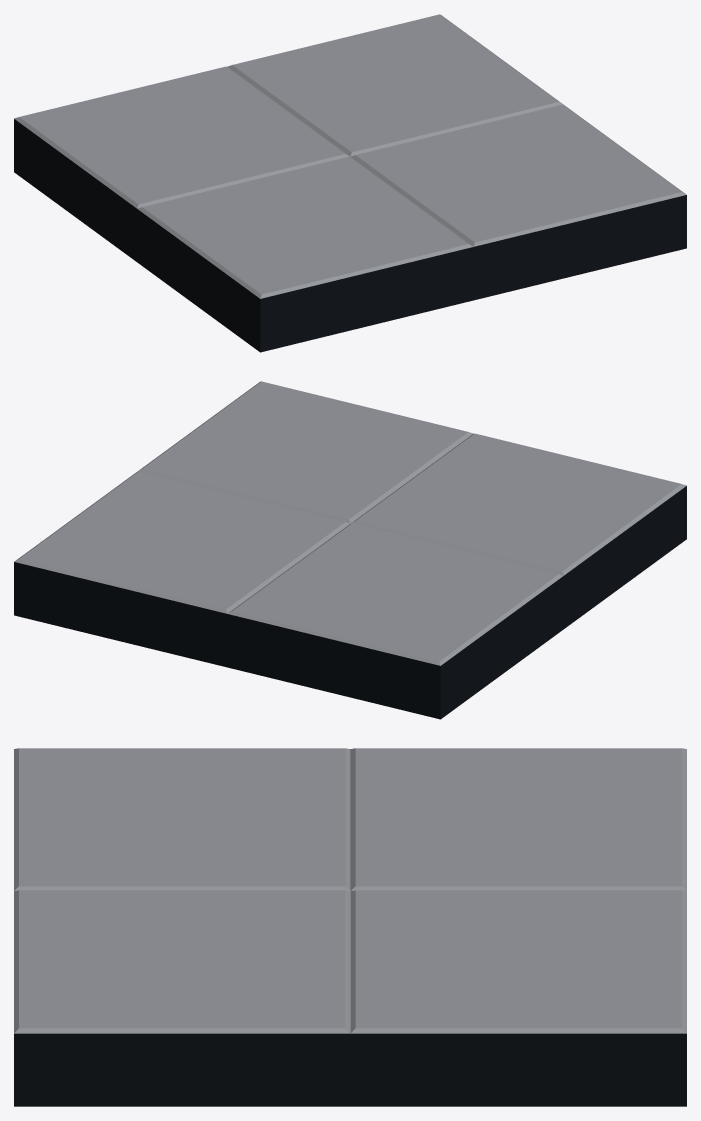
File: sm_Floor_A_01.fbx
3 renders of one model, top to bottom at view 1: azimuth 30°, elevation 25°; view 2: azimuth 150°, elevation 25°; view 3: azimuth 270°, elevation 25°, orthographic. The views are drawn at different scales.
Visible parts, largest first — view 1: Floor_A_01; view 2: Floor_A_01; view 3: Floor_A_01.
Boxes of the visible parts, x1,y1,x2,y2 form: Floor_A_01: [14, 14, 686, 352]; Floor_A_01: [14, 381, 686, 719]; Floor_A_01: [14, 748, 686, 1106].
Bounding box in the file's own units: 200 × 25 × 200.
